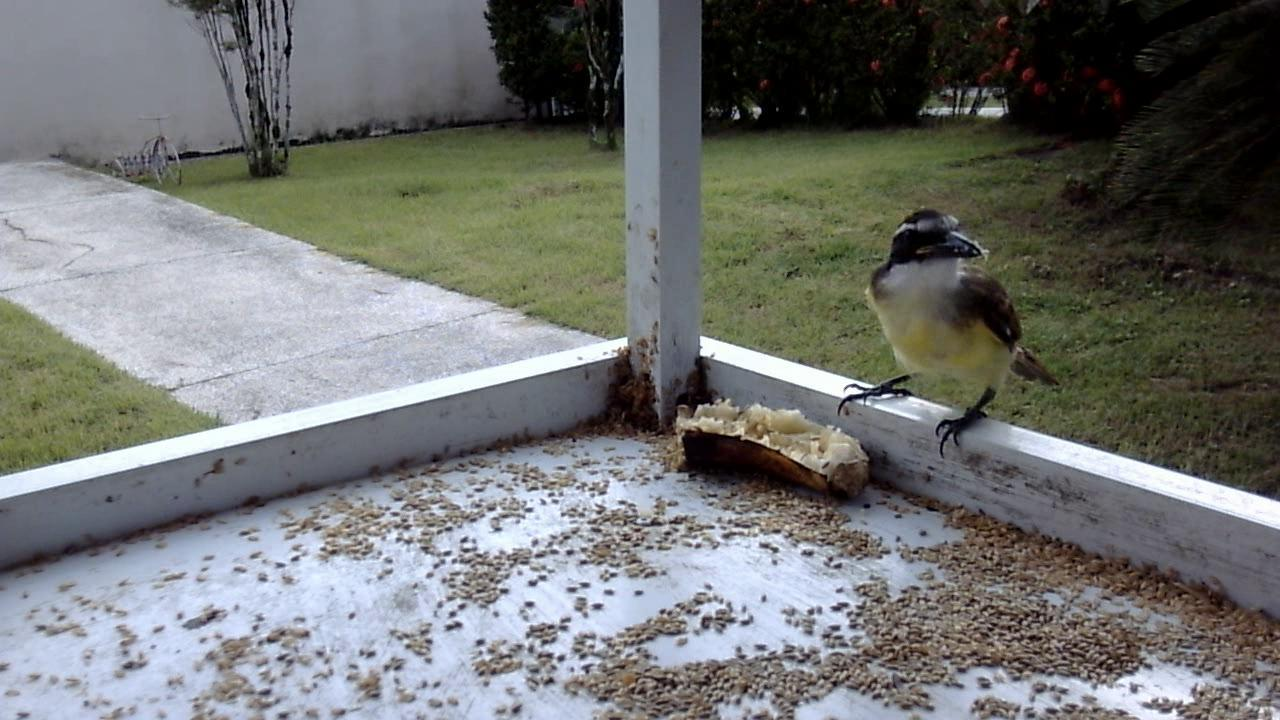bem_te_vi: (827, 206, 1062, 461)
